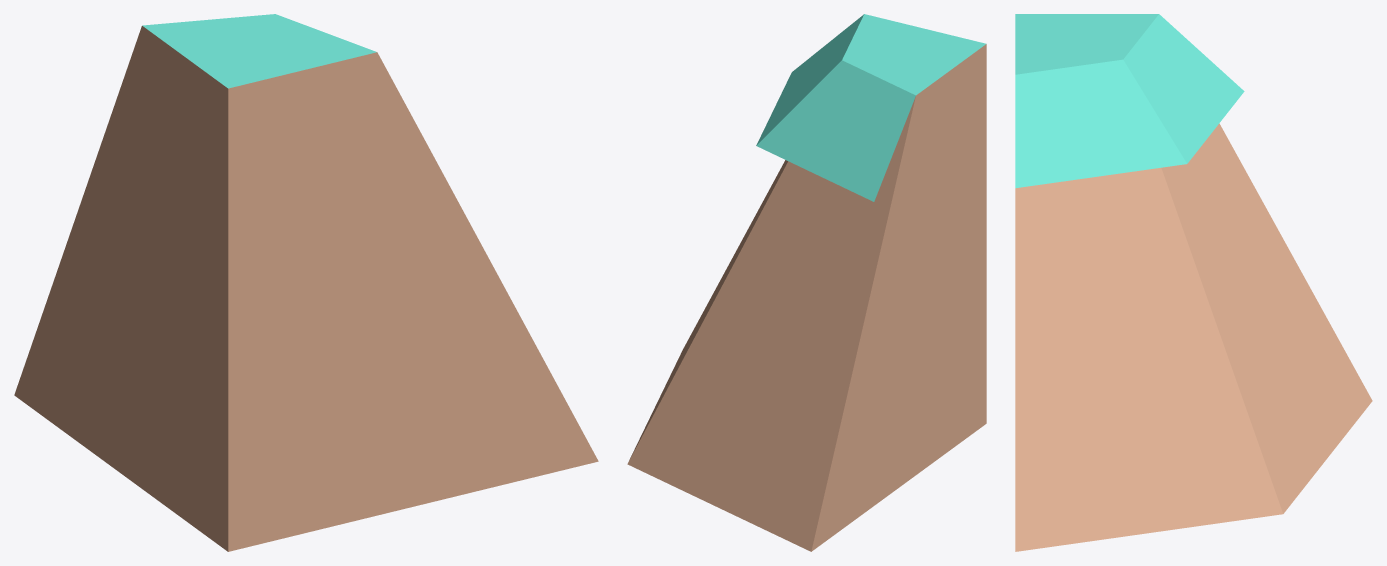
Rendered from cliff_halfCorner_rock.glb.
3 views of the same model, side by side, from view 1: azimuth 30°, elevation 25°; view 2: azimuth 150°, elevation 25°; view 3: azimuth 270°, elevation 25° (orthographic). The views are drawn at different scales.
Parts seen in each view (by area): view 1: cliff_halfCorner_rock; view 2: cliff_halfCorner_rock; view 3: cliff_halfCorner_rock.
Boxes of the visible parts, left/top/right/bottom form: cliff_halfCorner_rock: left=14, top=14, right=598, bottom=551; cliff_halfCorner_rock: left=627, top=14, right=986, bottom=551; cliff_halfCorner_rock: left=1015, top=14, right=1372, bottom=551.
Size of the model in its own units: 0.4185 by 0.5 by 0.4185.
